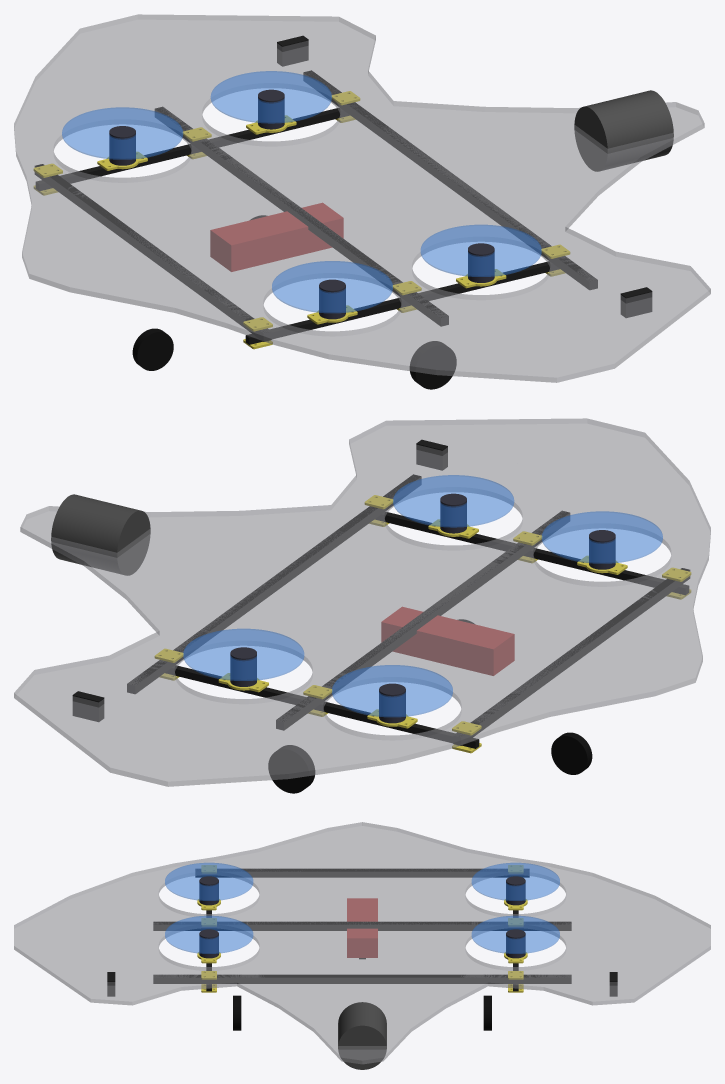
Rendered from SF_LAYOUT_V18_reference.glb.
3 renders of one model, top to bottom at view 1: azimuth 30°, elevation 25°; view 2: azimuth 150°, elevation 25°; view 3: azimuth 270°, elevation 25°, orthographic. The views are drawn at different scales.
Visible parts, largest first — view 1: planform_proxy_NOT_V18_SHAPE, EDF_64mm_envelope, battery_136x44x31_PLACEMENT_TBD, M1_prop_disc, M4_prop_disc, M2_prop_disc, M3_prop_disc, spar_x510, spar_x330, spar_x150, main_wheel_L, nose_wheel (+10 smaller); view 2: planform_proxy_NOT_V18_SHAPE, EDF_64mm_envelope, battery_136x44x31_PLACEMENT_TBD, M3_prop_disc, M2_prop_disc, M4_prop_disc, M1_prop_disc, spar_x510, spar_x330, spar_x150, main_wheel_R, nose_wheel (+10 smaller); view 3: planform_proxy_NOT_V18_SHAPE, spar_x510, spar_x330, spar_x150, EDF_64mm_envelope, M2_prop_disc, M4_prop_disc, M1_prop_disc, M3_prop_disc, battery_136x44x31_PLACEMENT_TBD, M2_motor, M4_motor (+2 smaller).
Part boxes in pixels (bbox=[...]): planform_proxy_NOT_V18_SHAPE: bbox=[14, 14, 710, 382]; EDF_64mm_envelope: bbox=[574, 90, 673, 171]; battery_136x44x31_PLACEMENT_TBD: bbox=[210, 203, 343, 271]; M1_prop_disc: bbox=[62, 107, 183, 159]; M4_prop_disc: bbox=[210, 71, 331, 123]; M2_prop_disc: bbox=[420, 224, 541, 276]; M3_prop_disc: bbox=[272, 261, 392, 313]; spar_x510: bbox=[303, 70, 597, 289]; spar_x330: bbox=[155, 106, 448, 326]; spar_x150: bbox=[35, 164, 271, 341]; main_wheel_L: bbox=[410, 341, 456, 389]; nose_wheel: bbox=[132, 328, 173, 370]; planform_proxy_NOT_V18_SHAPE: bbox=[14, 418, 710, 786]; EDF_64mm_envelope: bbox=[51, 494, 150, 575]; battery_136x44x31_PLACEMENT_TBD: bbox=[381, 607, 514, 675]; M3_prop_disc: bbox=[541, 511, 662, 563]; M2_prop_disc: bbox=[393, 475, 514, 527]; M4_prop_disc: bbox=[183, 628, 304, 680]; M1_prop_disc: bbox=[332, 665, 452, 717]; spar_x510: bbox=[127, 474, 421, 693]; spar_x330: bbox=[276, 510, 569, 730]; spar_x150: bbox=[453, 568, 689, 745]; main_wheel_R: bbox=[268, 745, 314, 793]; nose_wheel: bbox=[551, 732, 592, 774]; planform_proxy_NOT_V18_SHAPE: bbox=[14, 822, 710, 1064]; spar_x510: bbox=[153, 974, 571, 983]; spar_x330: bbox=[153, 921, 571, 930]; spar_x150: bbox=[195, 868, 529, 877]; EDF_64mm_envelope: bbox=[338, 1002, 386, 1069]; M2_prop_disc: bbox=[165, 915, 253, 953]; M4_prop_disc: bbox=[471, 915, 559, 953]; M1_prop_disc: bbox=[471, 862, 559, 900]; M3_prop_disc: bbox=[165, 862, 253, 900]; battery_136x44x31_PLACEMENT_TBD: bbox=[347, 898, 377, 957]; M2_motor: bbox=[199, 929, 218, 958]; M4_motor: bbox=[506, 929, 525, 958].
Size of the model in its own units: 810 by 180 by 1000.
